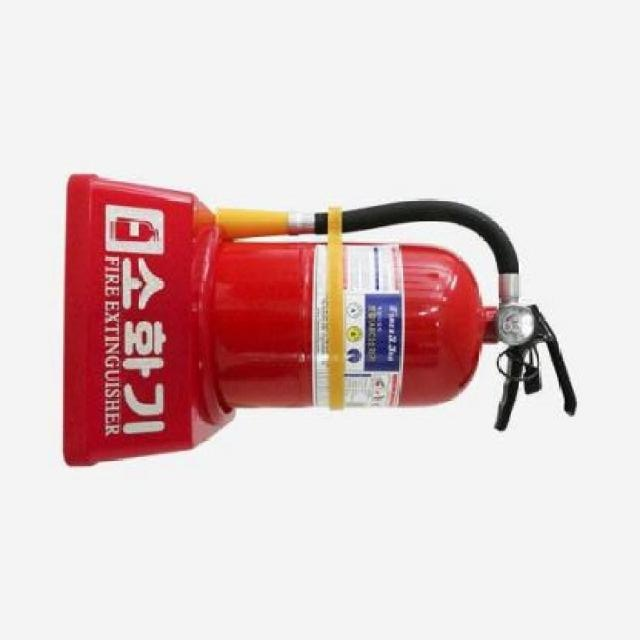fire extinguisher: (211, 199, 578, 433)
